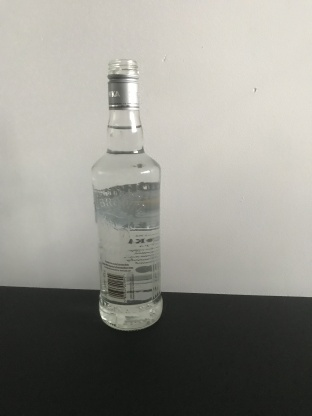nakretka: (105, 57, 141, 110)
